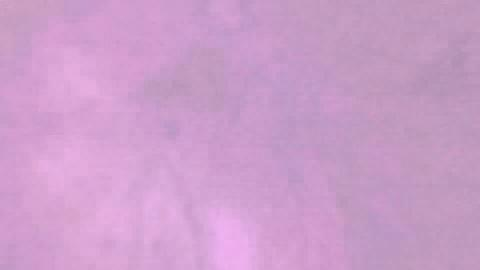tomato: (144, 107, 374, 268), (1, 114, 144, 268), (374, 110, 477, 268)
